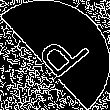P_SW: (22, 24, 88, 86)
